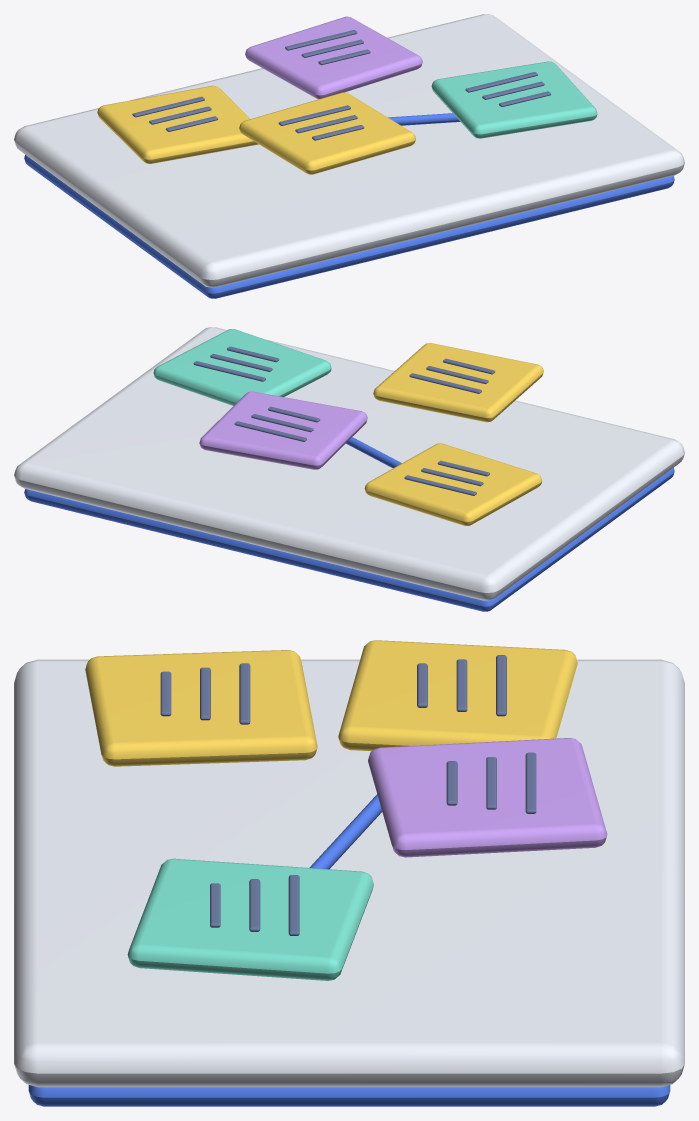
File: ideas.glb
The picture shows the model from 3 angles, top to bottom: view 1: azimuth 30°, elevation 25°; view 2: azimuth 150°, elevation 25°; view 3: azimuth 270°, elevation 25°; orthographic projection. The views are drawn at different scales.
Visible parts, largest first — view 1: Floating workspace, Sticky note 4, Sticky note 2, Sticky note 3, Sticky note 1, Blue lower edge, Connection; view 2: Floating workspace, Sticky note 1, Sticky note 4, Sticky note 2, Sticky note 3, Blue lower edge, Connection; view 3: Floating workspace, Sticky note 3, Sticky note 2, Sticky note 4, Sticky note 1, Blue lower edge, Connection, Idea line 1-0, Idea line 3-0, Idea line 2-0.
Part boxes in pixels (x1=…): Floating workspace: x1=14, y1=14, x2=684, y2=287; Sticky note 4: x1=239, y1=92, x2=415, y2=174; Sticky note 2: x1=245, y1=16, x2=422, y2=99; Sticky note 3: x1=431, y1=61, x2=597, y2=138; Sticky note 1: x1=97, y1=85, x2=258, y2=163; Blue lower edge: x1=24, y1=154, x2=674, y2=298; Connection: x1=388, y1=113, x2=460, y2=125; Floating workspace: x1=14, y1=327, x2=684, y2=600; Sticky note 1: x1=364, y1=443, x2=542, y2=525; Sticky note 4: x1=373, y1=343, x2=543, y2=422; Sticky note 2: x1=199, y1=391, x2=367, y2=469; Sticky note 3: x1=153, y1=329, x2=331, y2=405; Blue lower edge: x1=24, y1=467, x2=674, y2=611; Connection: x1=346, y1=437, x2=401, y2=467; Floating workspace: x1=14, y1=659, x2=684, y2=1087; Sticky note 3: x1=127, y1=858, x2=373, y2=980; Sticky note 2: x1=368, y1=738, x2=607, y2=857; Sticky note 4: x1=85, y1=650, x2=317, y2=766; Sticky note 1: x1=338, y1=640, x2=577, y2=751; Blue lower edge: x1=28, y1=1085, x2=670, y2=1106; Connection: x1=309, y1=794, x2=382, y2=869; Idea line 1-0: x1=525, y1=752, x2=536, y2=813; Idea line 3-0: x1=239, y1=663, x2=250, y2=724; Idea line 2-0: x1=288, y1=875, x2=299, y2=935.
Bounding box in the file's own units: 4.8 × 0.9625 × 3.4.
